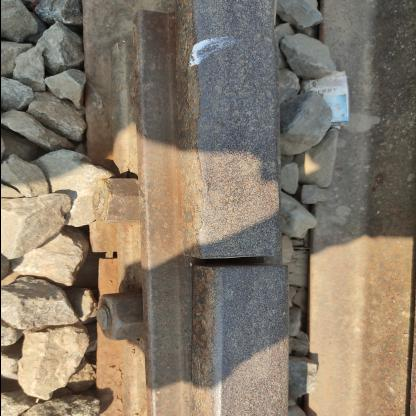Defective 2: (153, 128, 327, 377)
Defective 3: (74, 30, 177, 415)
